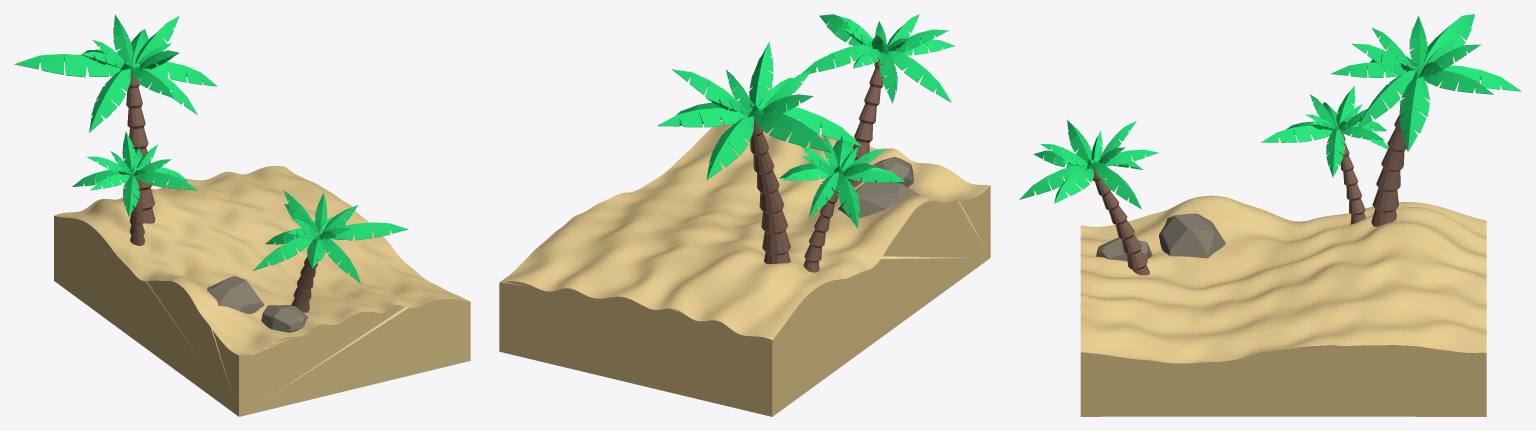
The model's file is ile.glb.
3 renders of one model, left to right at view 1: azimuth 30°, elevation 25°; view 2: azimuth 150°, elevation 25°; view 3: azimuth 270°, elevation 25°, orthographic. The views are drawn at different scales.
Visible parts, largest first — view 1: Plane, Circle, Plane.006, Cube.003, Plane.007, Cube.002, Plane.034, Plane.003, Circle.002, Plane.031, Plane.020, Plane.016 (+6 smaller); view 2: Plane, Circle, Plane.006, Plane.005, Cube.003, Circle.002, Plane.004, Circle.001, Plane.007, Plane.014, Plane.031, Plane.035 (+11 smaller); view 3: Plane, Cube.003, Circle, Circle.002, Plane.003, Plane.009, Circle.001, Plane.006, Plane.004, Plane.020, Plane.005, Plane.035 (+10 smaller).
Boxes of the visible parts, box(x1,y1,x2,y2) form: Plane: box(54, 166, 470, 416); Circle: box(126, 73, 155, 223); Plane.006: box(14, 54, 120, 77); Cube.003: box(207, 276, 264, 313); Plane.007: box(89, 68, 130, 132); Cube.002: box(261, 305, 308, 332); Plane.034: box(329, 222, 408, 240); Plane.003: box(133, 61, 217, 86); Circle.002: box(291, 233, 320, 312); Plane.031: box(253, 233, 319, 270); Plane.020: box(135, 171, 197, 190); Plane.016: box(135, 16, 179, 63); Plane: box(499, 121, 990, 416); Circle: box(750, 118, 790, 263); Plane.006: box(755, 112, 831, 152); Plane.005: box(706, 116, 753, 180); Cube.003: box(838, 182, 920, 217); Circle.002: box(847, 57, 883, 187); Plane.004: box(657, 108, 745, 127); Circle.001: box(803, 187, 838, 272); Plane.007: box(757, 105, 861, 146); Plane.014: box(749, 42, 773, 108); Plane.031: box(889, 51, 951, 102); Plane.035: box(801, 44, 871, 73); Plane: box(1080, 195, 1486, 416); Cube.003: box(1159, 213, 1225, 258); Circle: box(1371, 75, 1416, 226); Circle.002: box(1092, 168, 1149, 275); Plane.003: box(1399, 70, 1429, 151); Plane.009: box(1356, 67, 1417, 129); Circle.001: box(1338, 133, 1365, 224); Plane.006: box(1420, 14, 1474, 70); Plane.004: box(1423, 70, 1493, 94); Plane.020: box(1260, 125, 1332, 142); Plane.005: box(1420, 65, 1521, 91); Plane.035: box(1094, 162, 1141, 209).
Size of the model in its own units: 893 by 759 by 1168.
